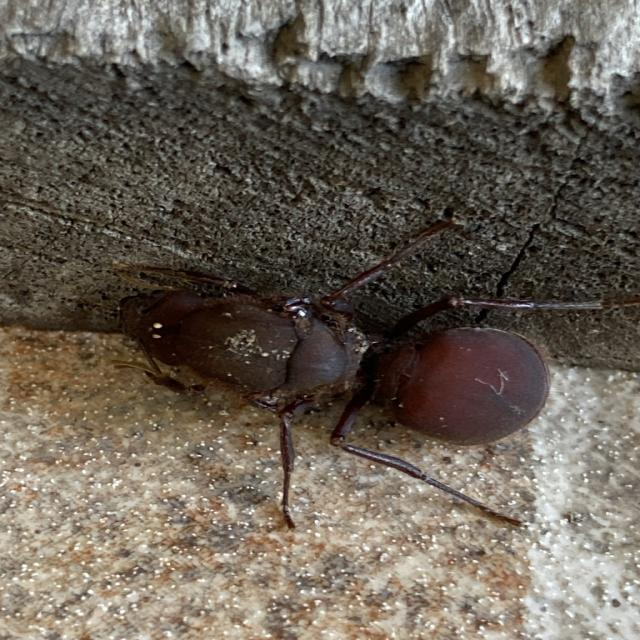Alive-Female-Dealate: (103, 197, 640, 532)
